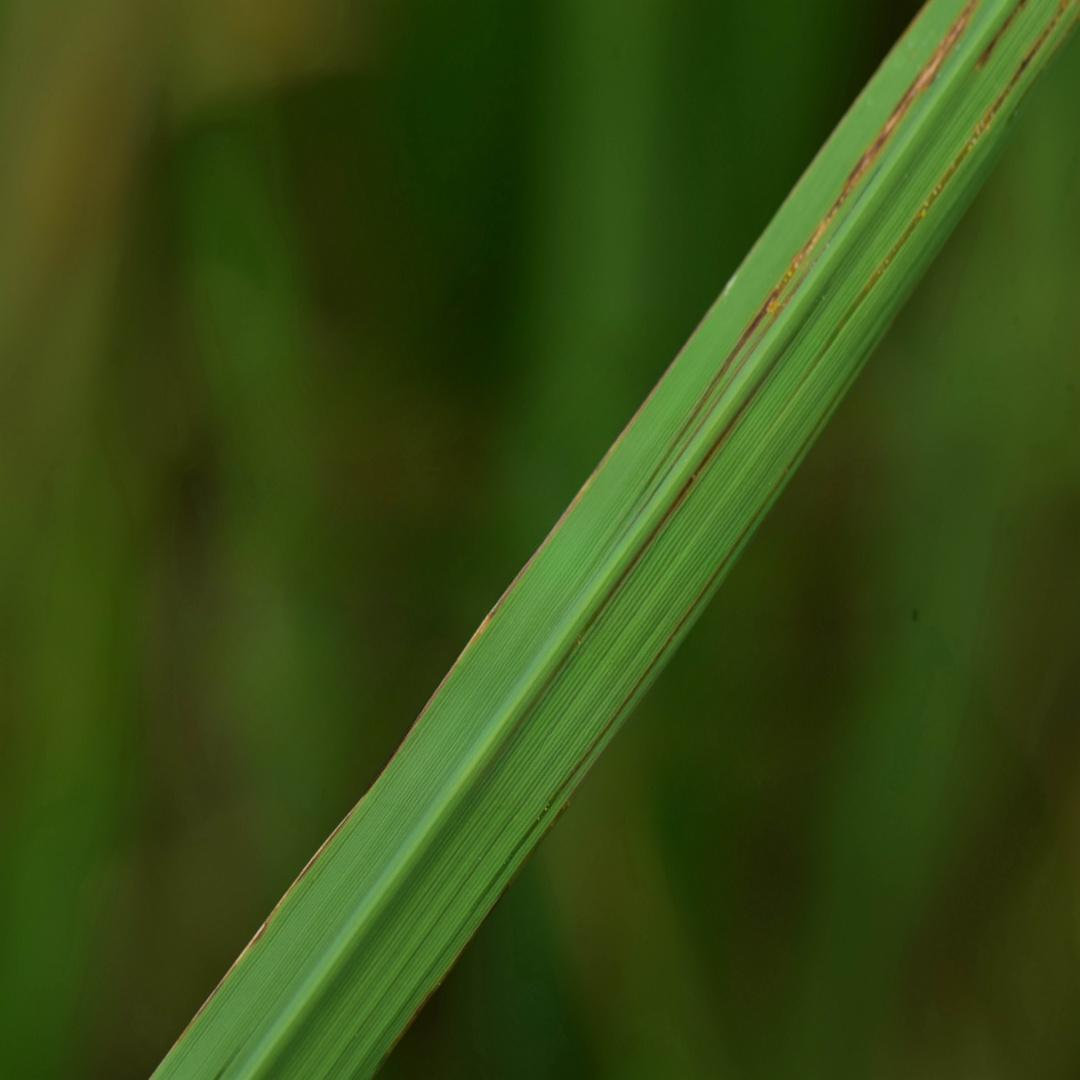BLS: (458, 324, 885, 930), (482, 269, 839, 773), (631, 0, 982, 508), (591, 161, 887, 580), (801, 0, 1074, 382), (975, 0, 1028, 70)
LEAF: (148, 0, 1079, 1079)
